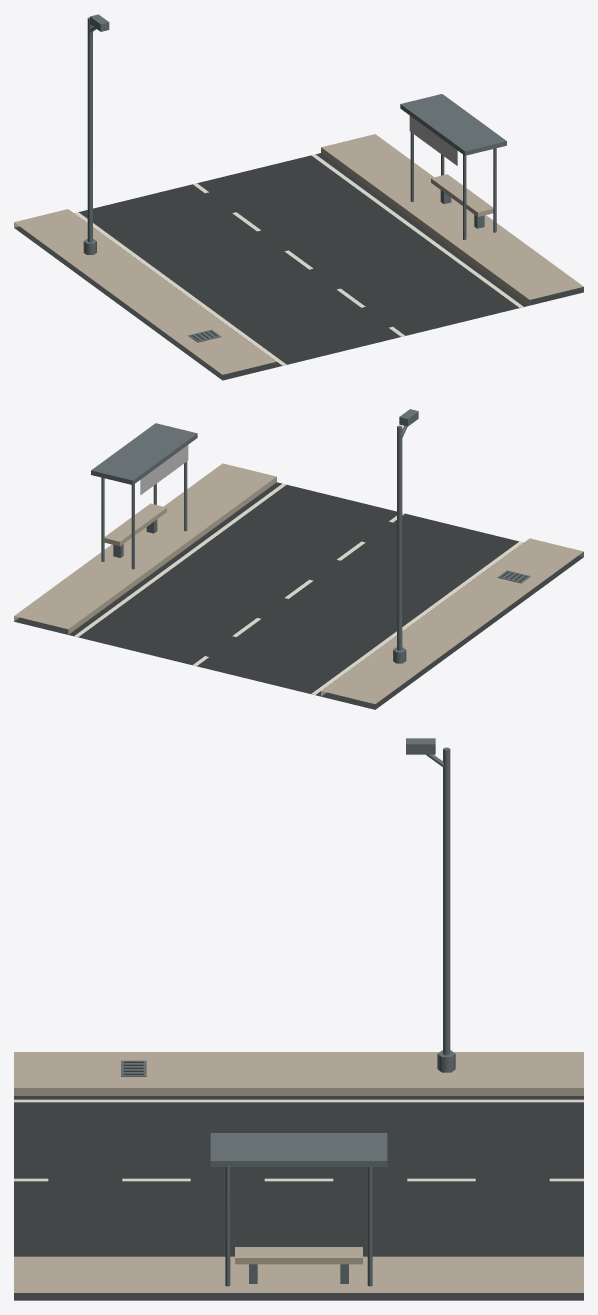
Rendered from road.straight.gltf.
3 views of the same model, one above another, from view 1: azimuth 30°, elevation 25°; view 2: azimuth 150°, elevation 25°; view 3: azimuth 270°, elevation 25° (orthographic). The views are drawn at different scales.
Visible parts, largest first — view 1: road.straight/carriageway, road.straight/sidewalk_tile, road.straight/metal_steel, road.straight/road_marking_white, road.straight/sign_thai:["ป้ายรถโดยสาร","f1eada","263932",[2; view 2: road.straight/carriageway, road.straight/sidewalk_tile, road.straight/metal_steel, road.straight/road_marking_white, road.straight/sign_thai:["ป้ายรถโดยสาร","f1eada","263932",[2; view 3: road.straight/carriageway, road.straight/sidewalk_tile, road.straight/metal_steel, road.straight/road_marking_white.
Part boxes in pixels (box(x1,y1,x2,y2)): road.straight/carriageway: box(14, 153, 583, 380); road.straight/sidewalk_tile: box(14, 134, 583, 374); road.straight/metal_steel: box(83, 14, 506, 342); road.straight/road_marking_white: box(74, 154, 523, 365); road.straight/sign_thai:["ป้ายรถโดยสาร","f1eada","263932",[2: box(409, 116, 457, 165); road.straight/carriageway: box(14, 482, 583, 709); road.straight/sidewalk_tile: box(14, 463, 583, 703); road.straight/metal_steel: box(91, 409, 530, 663); road.straight/road_marking_white: box(74, 483, 523, 694); road.straight/sign_thai:["ป้ายรถโดยสาร","f1eada","263932",[2: box(140, 445, 188, 495); road.straight/carriageway: box(14, 1061, 583, 1300); road.straight/sidewalk_tile: box(14, 1052, 583, 1292); road.straight/metal_steel: box(121, 738, 455, 1286); road.straight/road_marking_white: box(14, 1099, 583, 1181).
Bounding box in the file's own units: 10 × 6.5 × 10.
